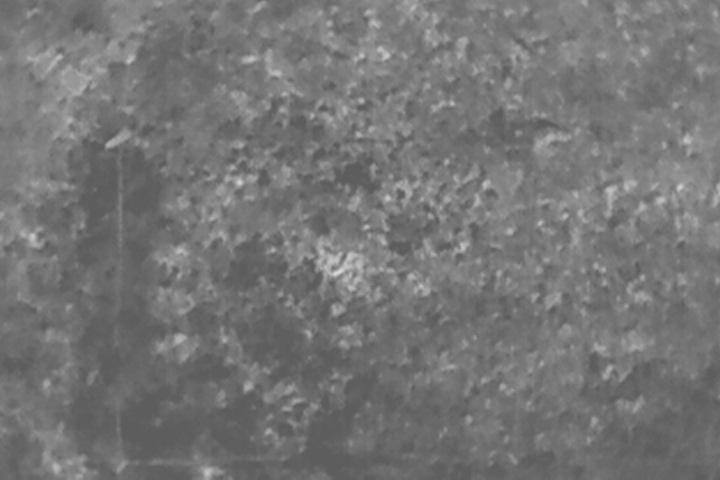landmine: (318, 250, 347, 279)
